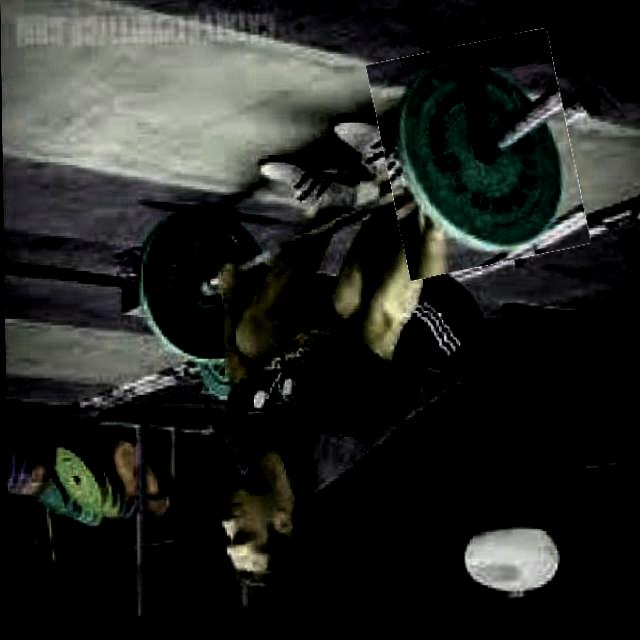barbell: (375, 37, 582, 275)
